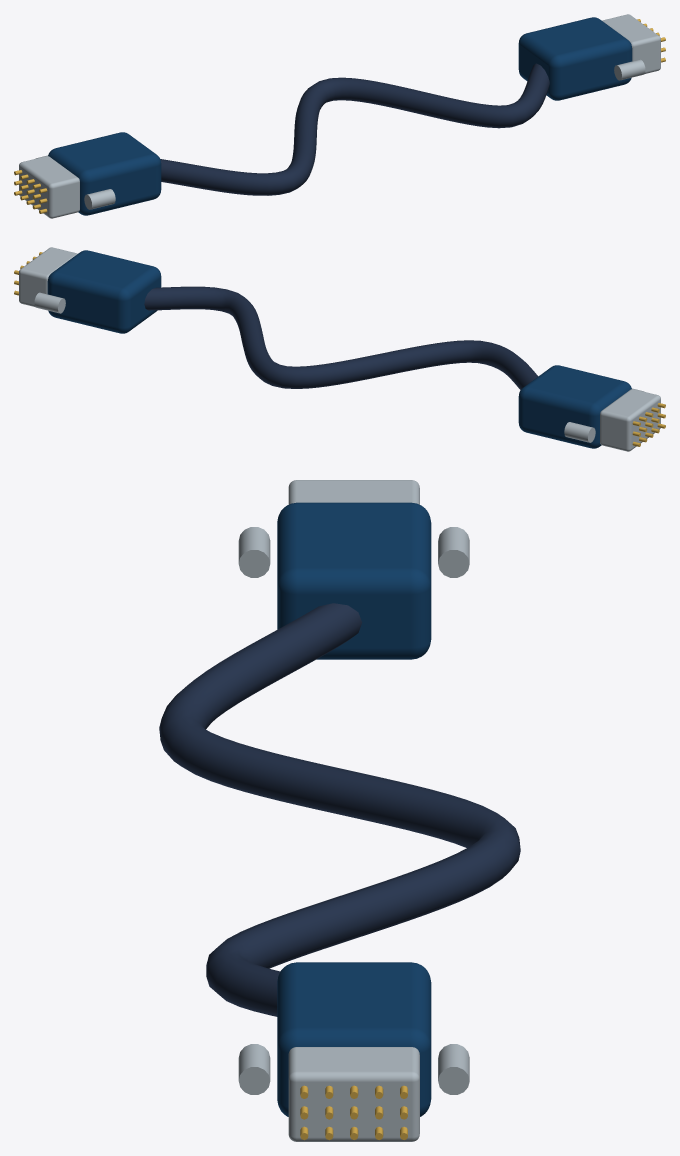
The model's file is vga-cable.glb.
3 views of the same model, one above another, from view 1: azimuth 30°, elevation 25°; view 2: azimuth 150°, elevation 25°; view 3: azimuth 270°, elevation 25° (orthographic). The views are drawn at different scales.
Parts seen in each view (by area): view 1: VGA connector hood (×2), Shielded VGA cable, DE-15 shell (×2), Thumb screw (×2); view 2: VGA connector hood (×2), Shielded VGA cable, DE-15 shell (×2), Thumb screw (×2); view 3: Shielded VGA cable, VGA connector hood (×2), DE-15 shell (×2), Thumb screw (×4).
Boxes of the visible parts, <box> form: VGA connector hood (×2): <box>48,17,632,215</box>; Shielded VGA cable: <box>160,63,549,195</box>; DE-15 shell (×2): <box>19,14,660,218</box>; Thumb screw (×2): <box>84,59,645,209</box>; VGA connector hood (×2): <box>47,250,631,448</box>; Shielded VGA cable: <box>144,286,538,389</box>; DE-15 shell (×2): <box>19,247,660,451</box>; Thumb screw (×2): <box>34,292,595,442</box>; Shielded VGA cable: <box>159,603,520,1016</box>; VGA connector hood (×2): <box>277,502,431,1116</box>; DE-15 shell (×2): <box>288,480,419,1141</box>; Thumb screw (×4): <box>238,527,469,1094</box>.
Bounding box in the file's own units: 3.19 × 0.22 × 0.7978.
